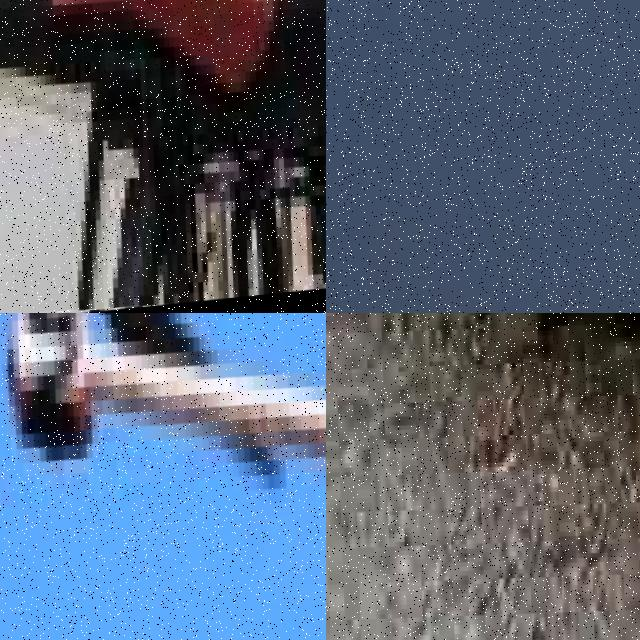drone: (0, 313, 326, 640), (0, 0, 326, 313)
